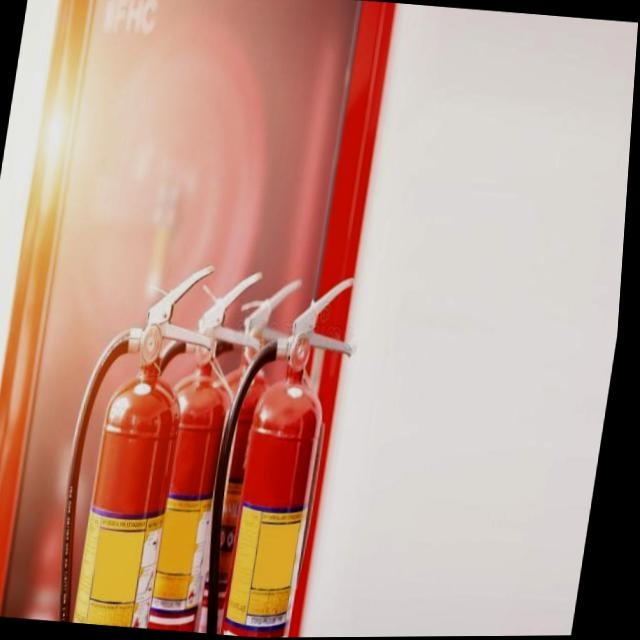FireExtinguisher: (50, 250, 231, 631), (143, 264, 318, 638), (105, 260, 279, 634), (197, 264, 369, 639)
